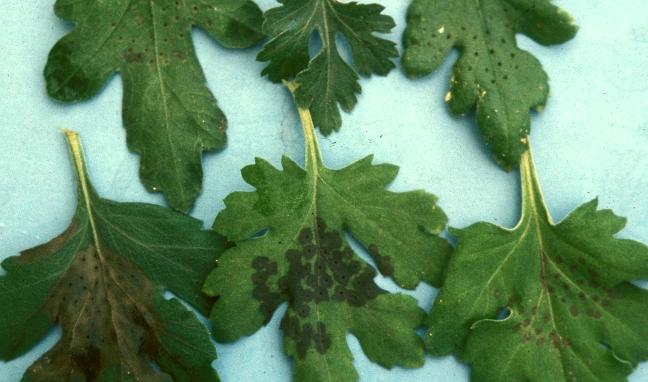Tomato leaf bacterial spot: (34, 0, 281, 230), (415, 157, 648, 382), (399, 0, 601, 194), (260, 0, 401, 132)
